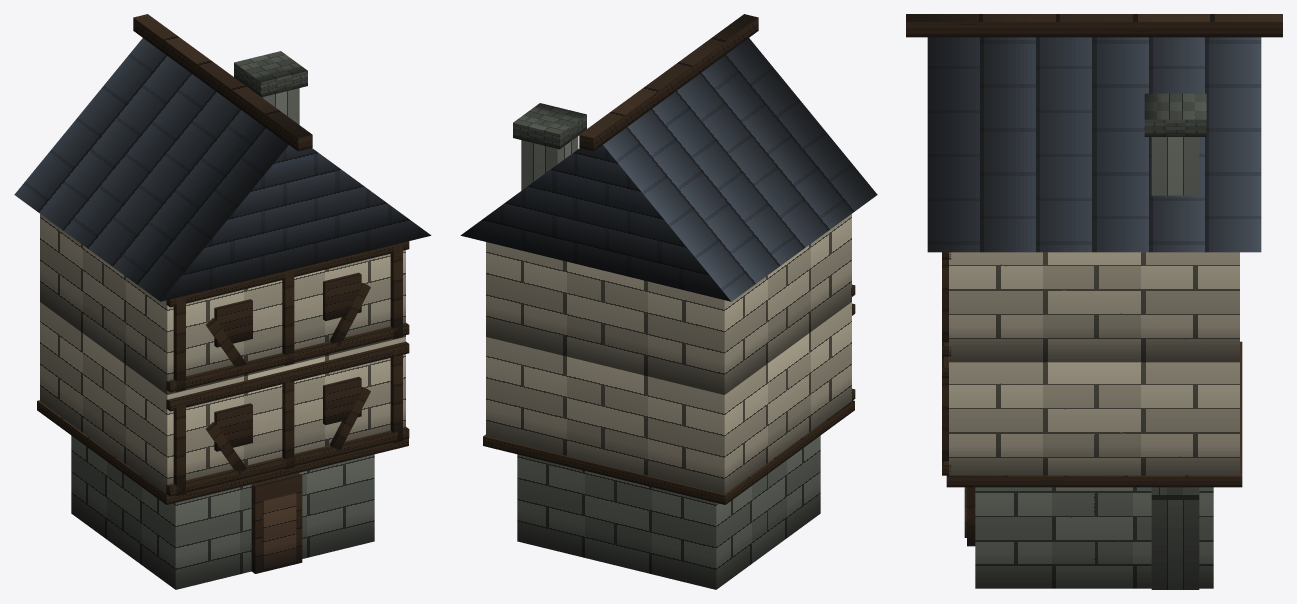
Rendered from house_tall.glb.
3 views of the same model, side by side, from view 1: azimuth 30°, elevation 25°; view 2: azimuth 150°, elevation 25°; view 3: azimuth 270°, elevation 25° (orthographic). The views are drawn at different scales.
Visible parts, largest first — view 1: house_tall; view 2: house_tall; view 3: house_tall.
Part boxes in pixels (x1,y1,x2,y2): house_tall: (14,14,431,589); house_tall: (460,14,877,589); house_tall: (906,14,1282,589).
Bounding box in the file's own units: 1.5 × 2.38 × 1.58.
1 material, 1 textured.
